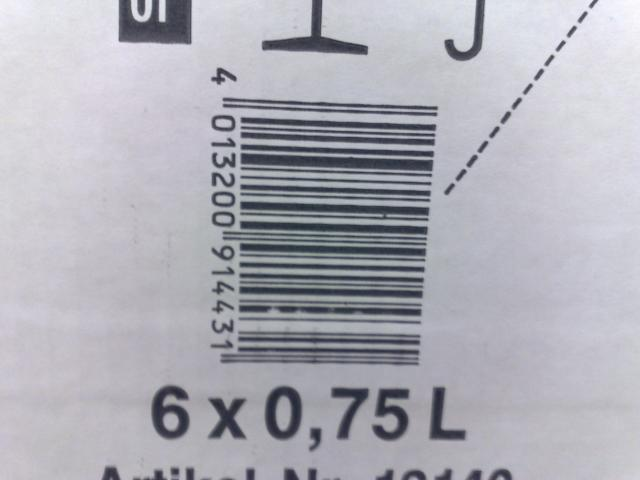Barkod: (229, 94, 435, 364)
